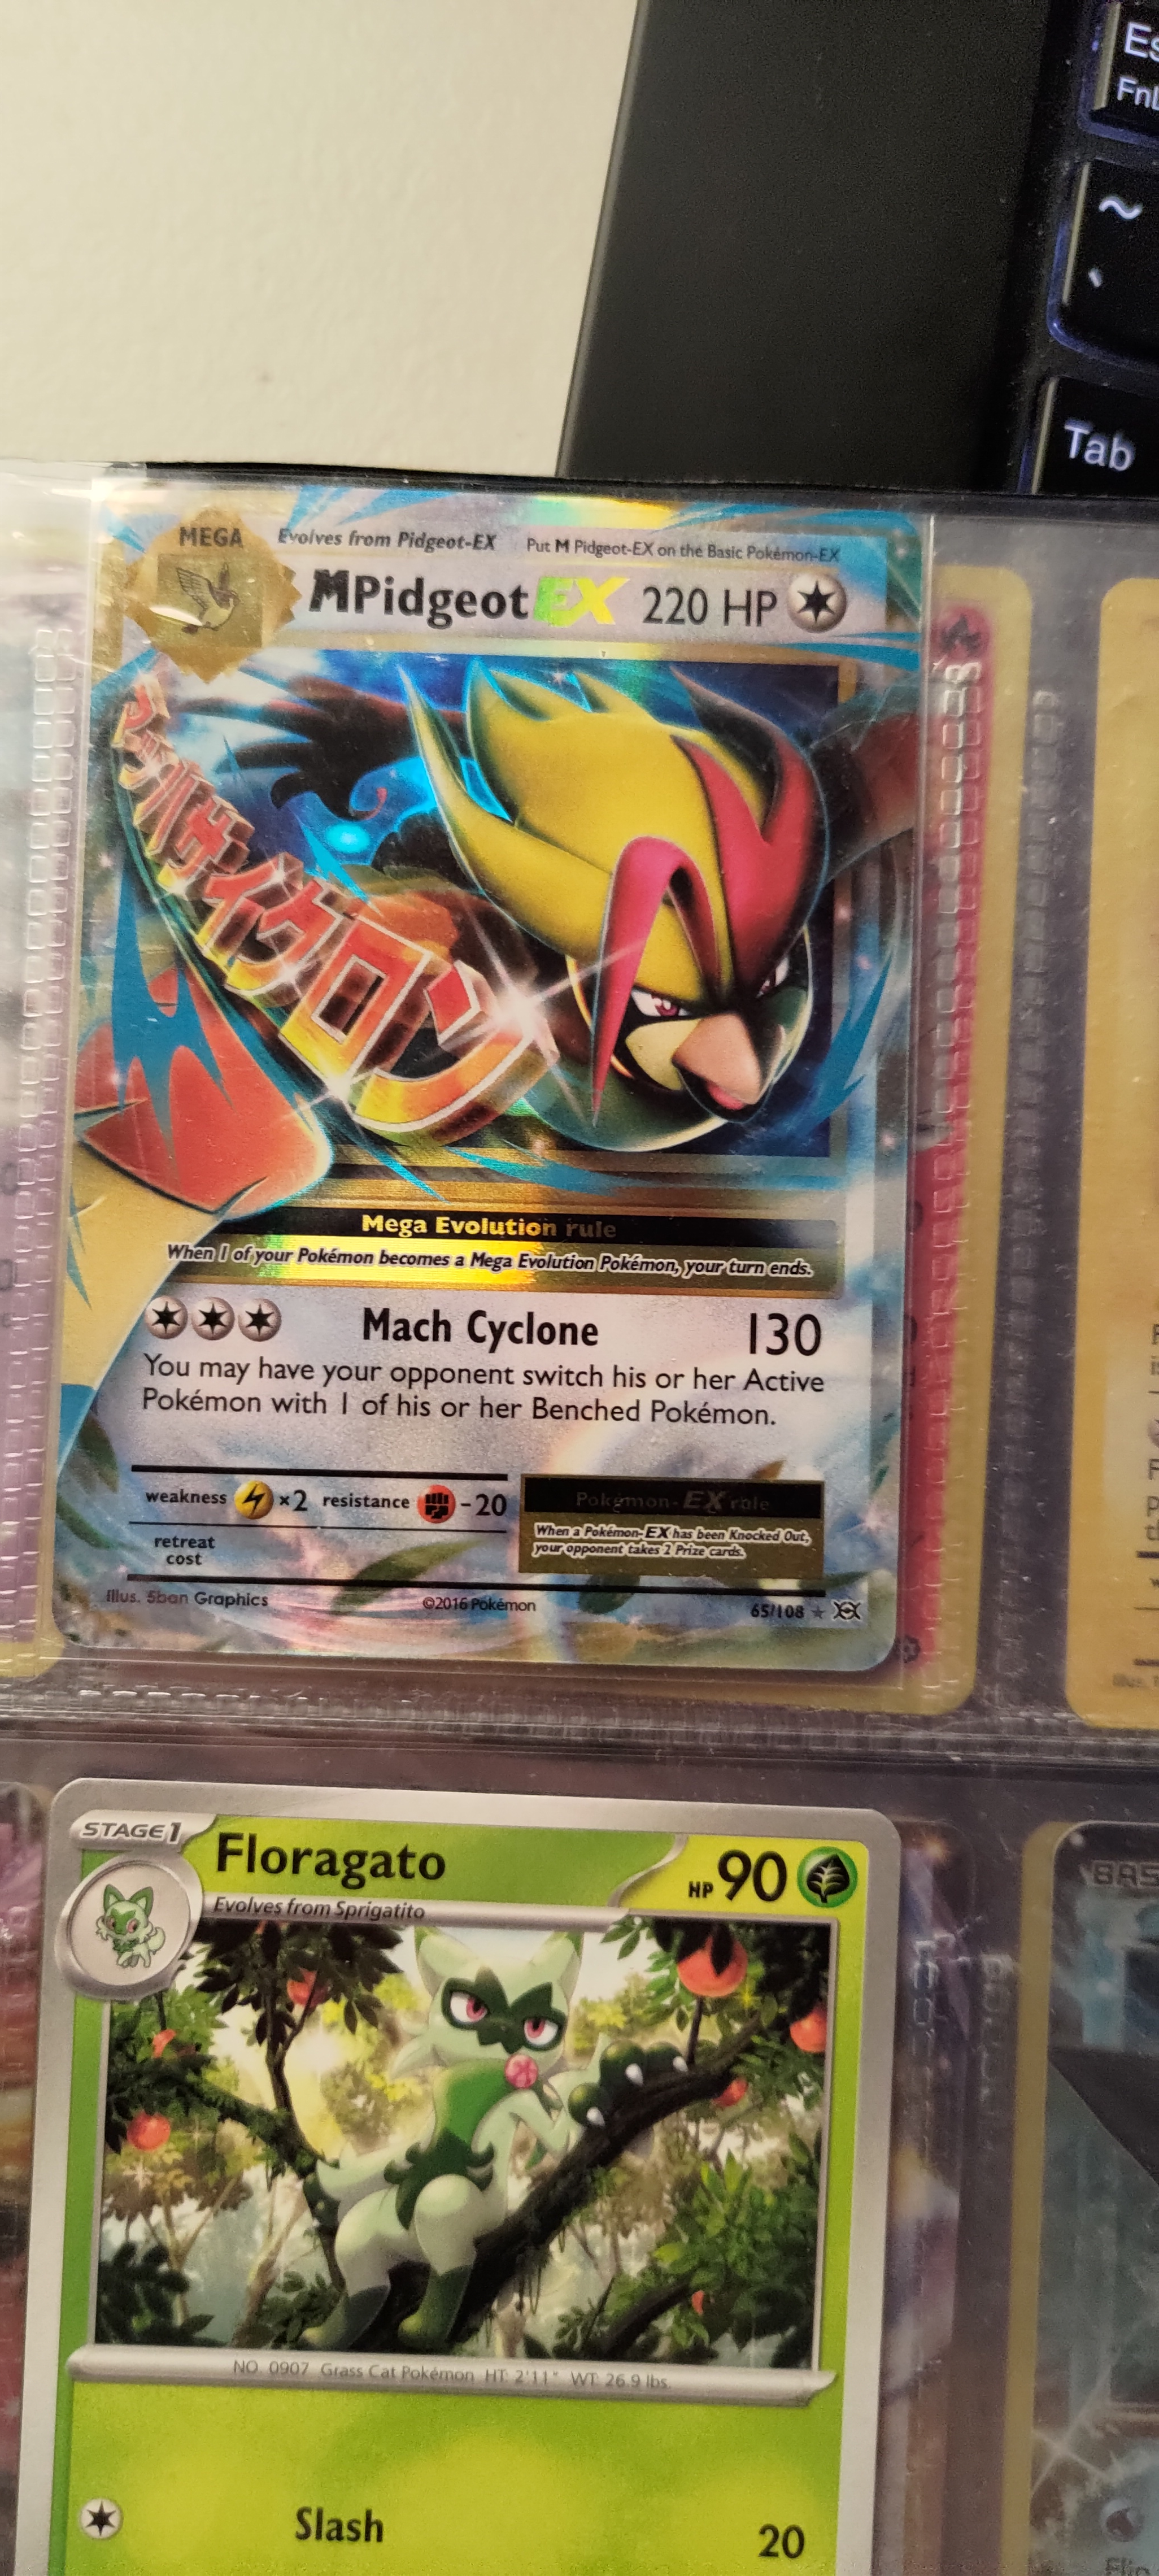pokemon_card: (59, 453, 952, 1671)
